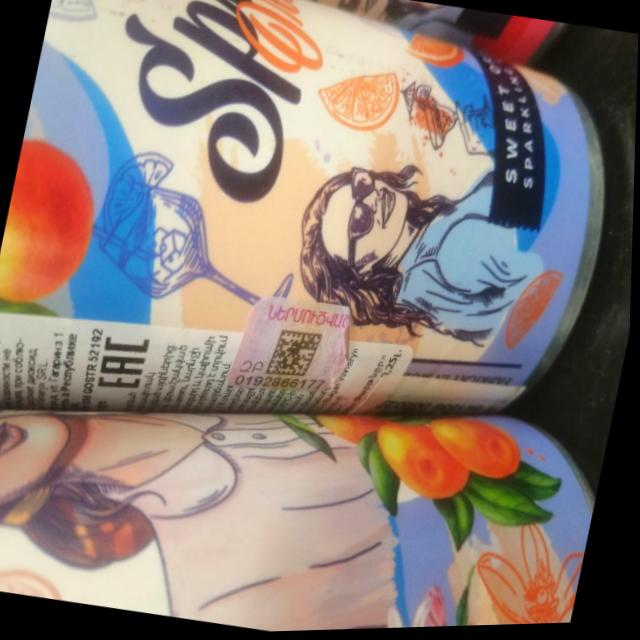datamatrix: (264, 323, 328, 388)
